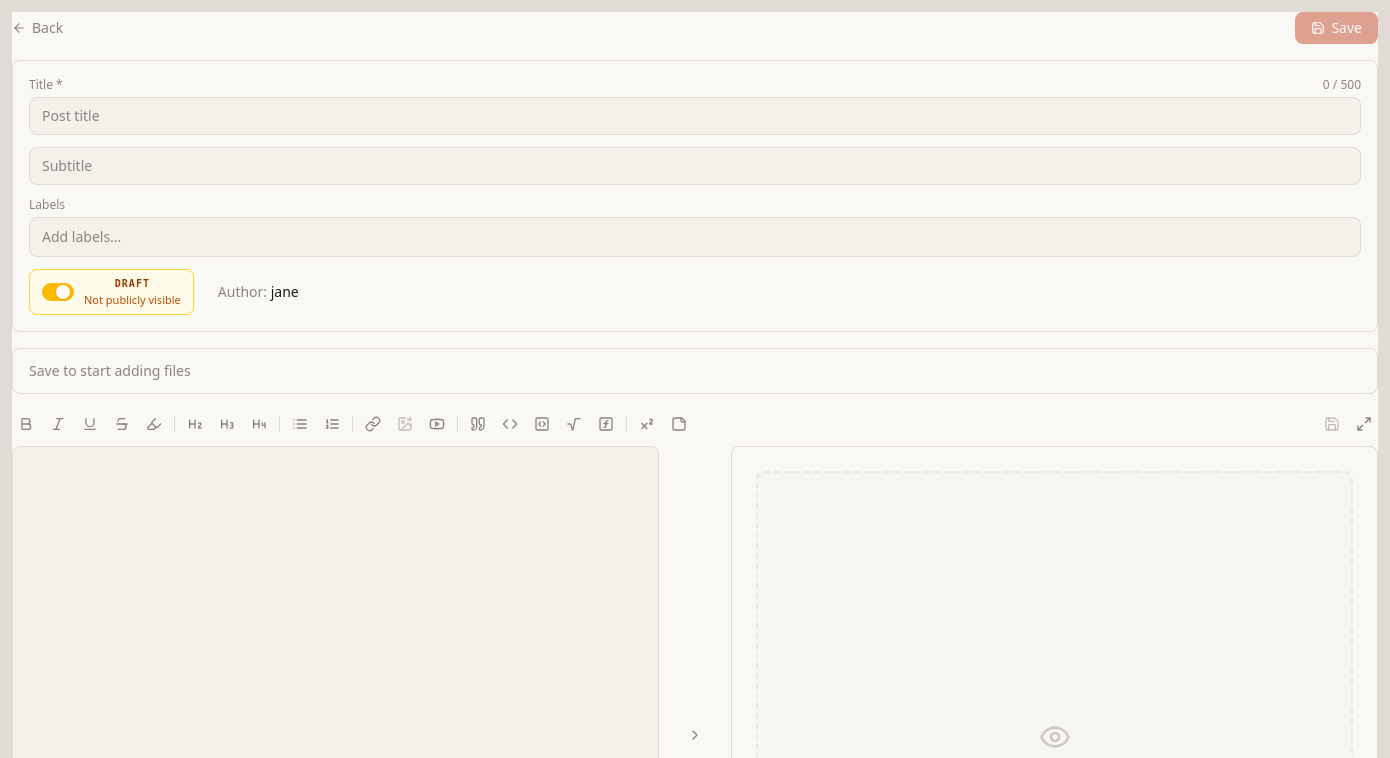
Test: EditorPage › shows 409 conflict error
Type "Test" into the field labelled "Title *" at (695, 116), box [29,97,1361,135]
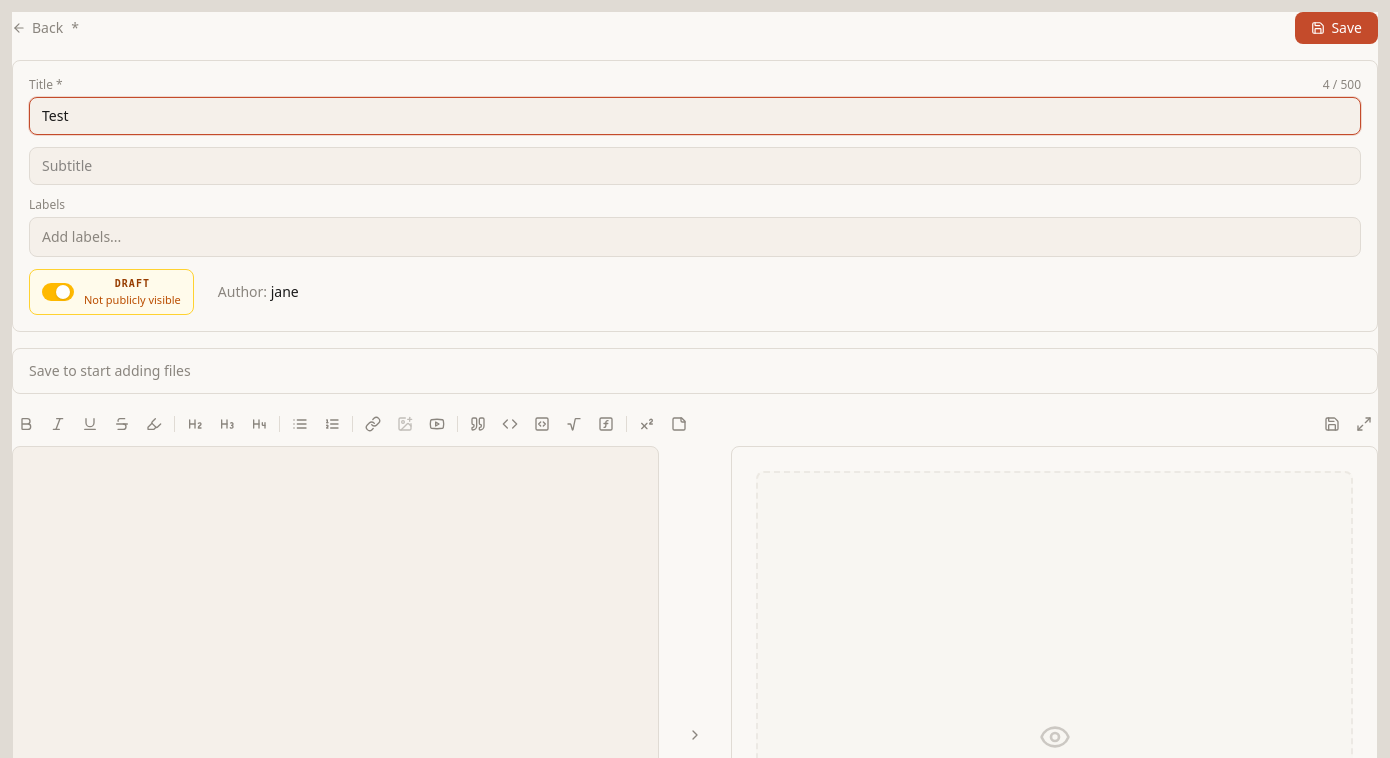
Click the button with aria-label "Save post" at (1337, 28), box [1295,12,1378,44]
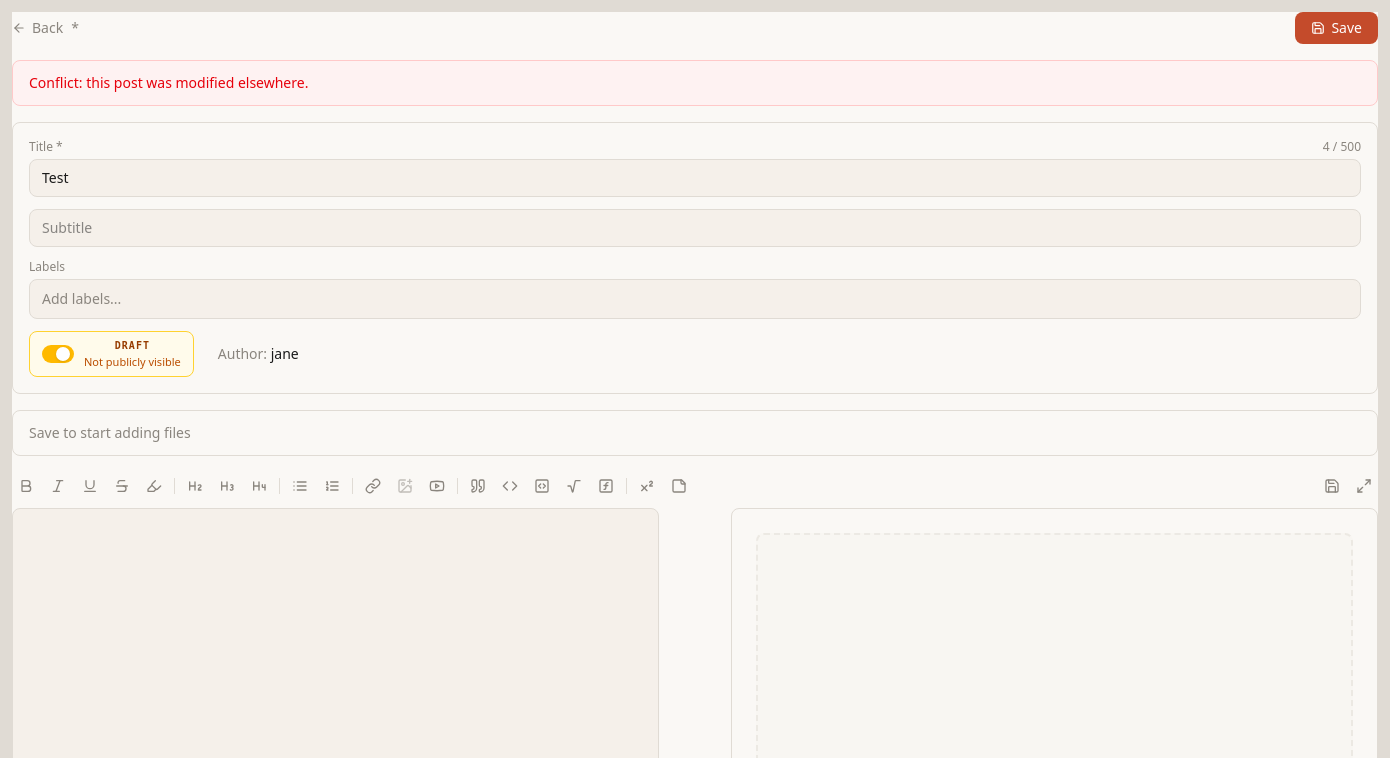
Expected: the text "Conflict: this post was modified elsewhere." is shown, [12,60,1378,106]
